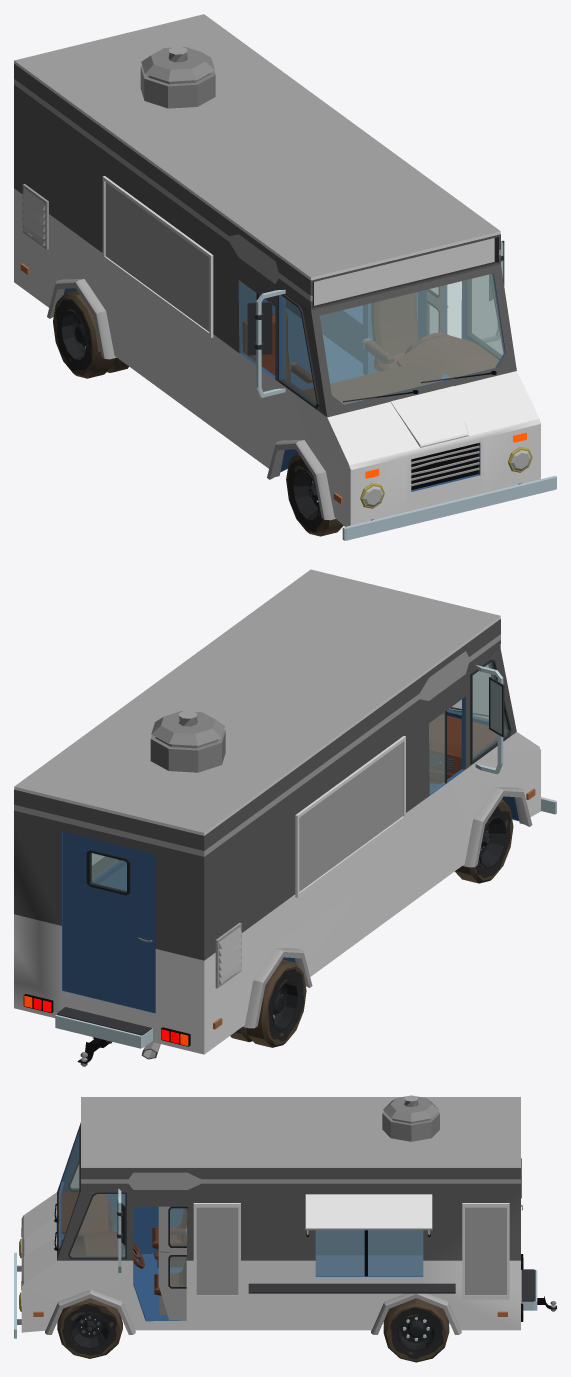
Rendered from FoodTruck2.fbx.
3 views of the same model, one above another, from view 1: azimuth 30°, elevation 25°; view 2: azimuth 150°, elevation 25°; view 3: azimuth 270°, elevation 25° (orthographic). The views are drawn at different scales.
Parts seen in each view (by area): view 1: MainBody, Board2, Dash, TireRR, TireFR, Grate, SideDoor; view 2: MainBody, RearDoor6, Board2, TireRR, TireFR, Dash, Grate; view 3: MainBody, Canopy, Board1, Board3, TireRL, SideDoor, TireFL, SlidingWindow, Dash, SlidingWindow1.
Boxes of the visible parts, <box> form: MainBody: <box>14,14,556,540</box>; Board2: <box>102,176,213,337</box>; Dash: <box>303,335,498,404</box>; TireRR: <box>53,290,128,378</box>; TireFR: <box>286,452,343,536</box>; Grate: <box>22,184,48,249</box>; SideDoor: <box>427,285,446,334</box>; MainBody: <box>14,569,556,1059</box>; RearDoor6: <box>62,831,155,1013</box>; Board2: <box>295,736,405,897</box>; TireRR: <box>230,959,306,1047</box>; TireFR: <box>455,799,513,883</box>; Dash: <box>429,714,497,783</box>; Grate: <box>215,922,241,988</box>; MainBody: <box>14,1095,537,1338</box>; Canopy: <box>305,1194,432,1236</box>; Board1: <box>193,1203,240,1299</box>; Board3: <box>462,1203,509,1299</box>; TireRL: <box>383,1298,449,1362</box>; SideDoor: <box>158,1206,187,1320</box>; TireFL: <box>57,1298,122,1358</box>; SlidingWindow: <box>366,1230,423,1276</box>; Dash: <box>61,1192,117,1255</box>; SlidingWindow1: <box>315,1230,366,1276</box>.
Size of the model in its own units: 346 by 361 by 787.
